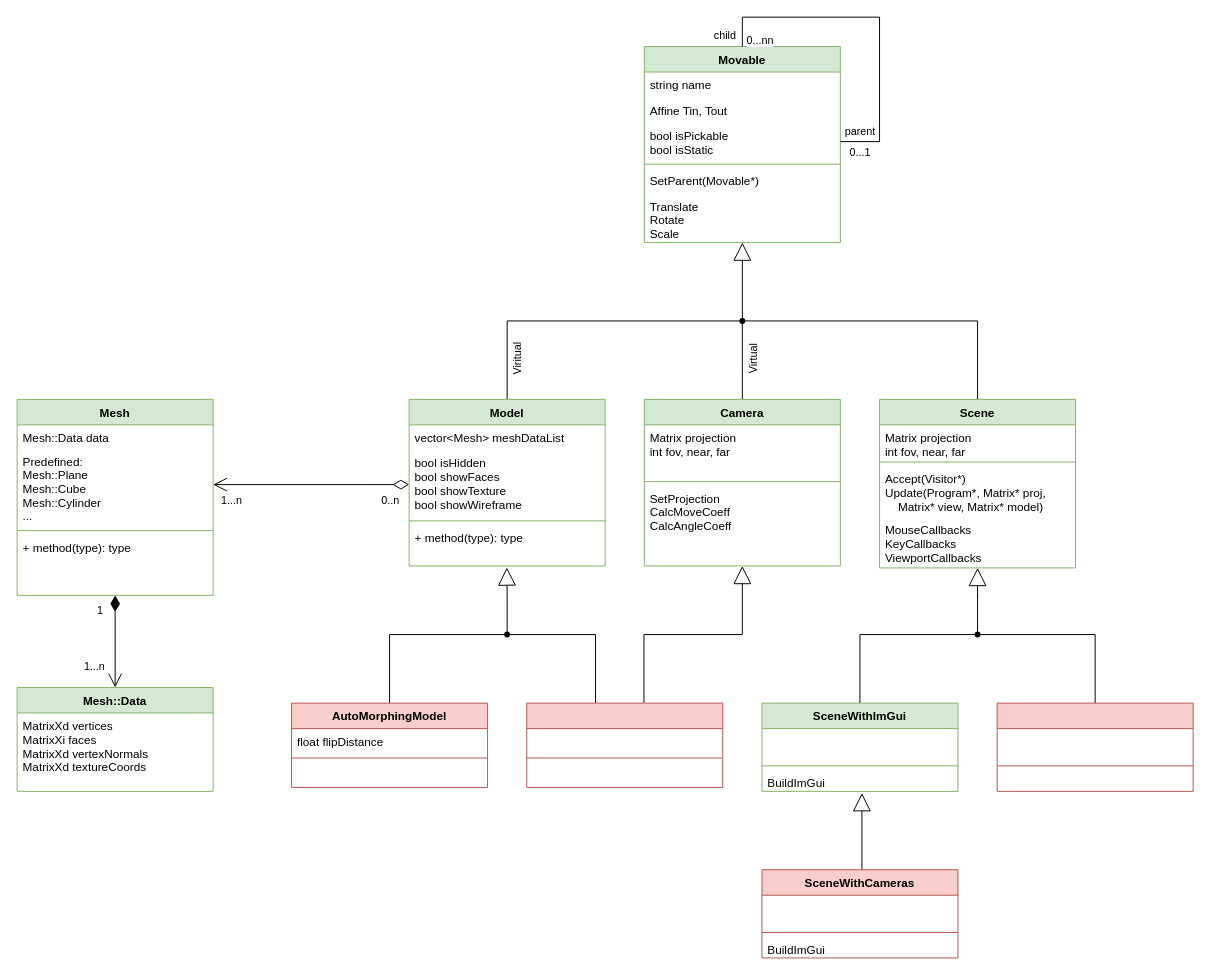
Image size: 1210x978. Some labels were removed from this diagram. Each missing label, with the centre of its shape:
CamModel: the point at 624,744
SimpleScene: the point at 1094,746
